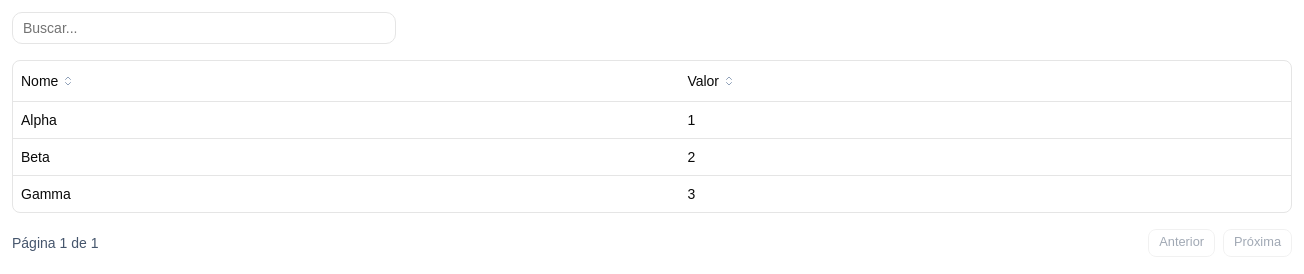
DataTable › shows empty state when no results
The width and height of the screenshot is (1304, 274).
In the field with placeholder "Buscar...": (204, 28) top-left (12, 12), bottom-right (396, 44), type "ZZZZ"
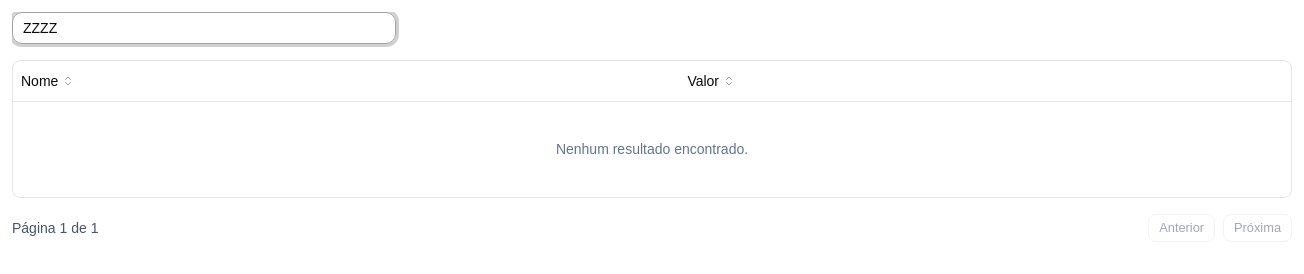
Check: the text "Nenhum resultado encontrado." is shown, box top-left (13, 101), bottom-right (1291, 197)
